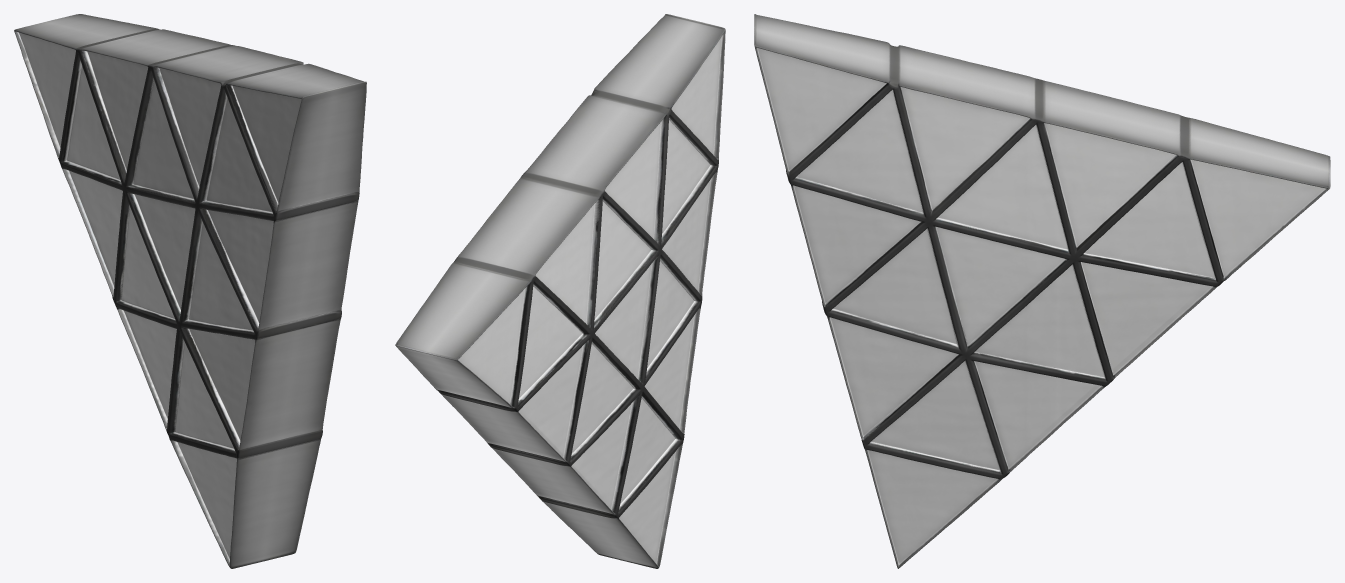
The model's file is three-js.glb.
The picture shows the model from 3 angles, left to right: view 1: azimuth 30°, elevation 25°; view 2: azimuth 150°, elevation 25°; view 3: azimuth 270°, elevation 25°; orthographic projection. The views are drawn at different scales.
Visible parts, largest first — view 1: tripo_node_1656f4ef-5a17-40bc-aeba-2947bd9e0e86; view 2: tripo_node_1656f4ef-5a17-40bc-aeba-2947bd9e0e86; view 3: tripo_node_1656f4ef-5a17-40bc-aeba-2947bd9e0e86.
Part boxes in pixels (box(x1,y1,x2,y2)): tripo_node_1656f4ef-5a17-40bc-aeba-2947bd9e0e86: box(14, 14, 366, 568); tripo_node_1656f4ef-5a17-40bc-aeba-2947bd9e0e86: box(395, 14, 725, 568); tripo_node_1656f4ef-5a17-40bc-aeba-2947bd9e0e86: box(754, 14, 1330, 568).
Size of the model in its own units: 0.2019 by 1 by 0.9952.
1 material, 1 textured.
